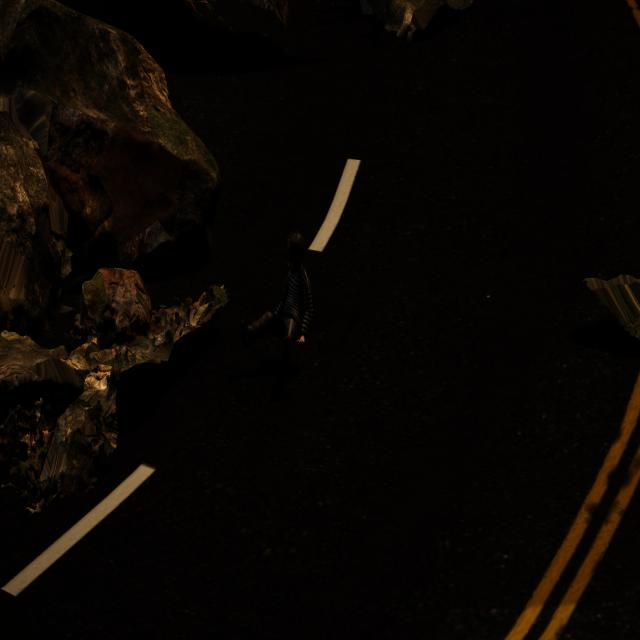Human: (237, 221, 322, 363)
